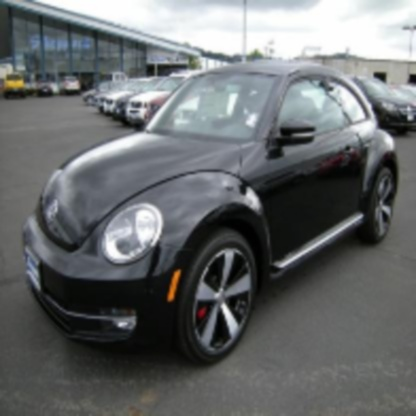Vehicle: (22, 61, 401, 368)
